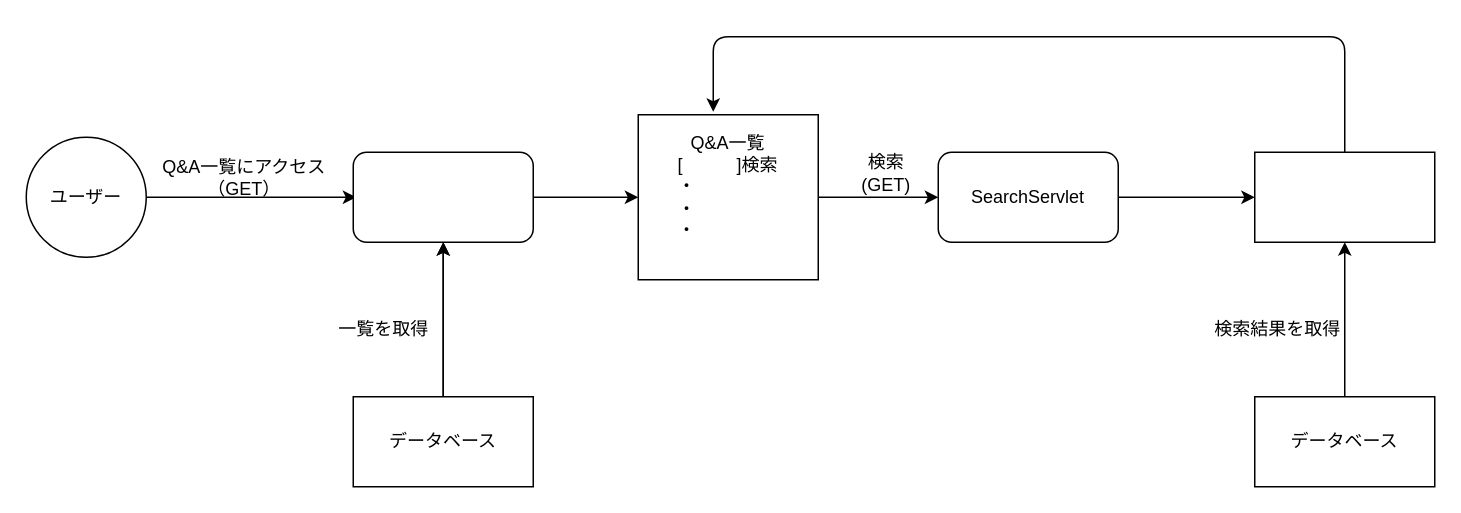
This 1461x513 diagram has some shape labels left out. Each missing label, with the centre of its shape:
"qaList.jsp" belongs at (x=442, y=196).
"検索結果 TOPへ" belongs at (x=1344, y=196).
